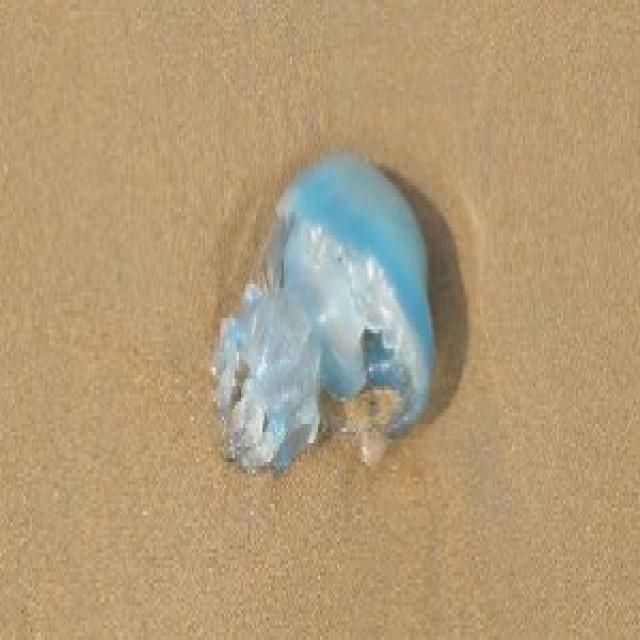Jellyfish: (201, 132, 482, 478)
